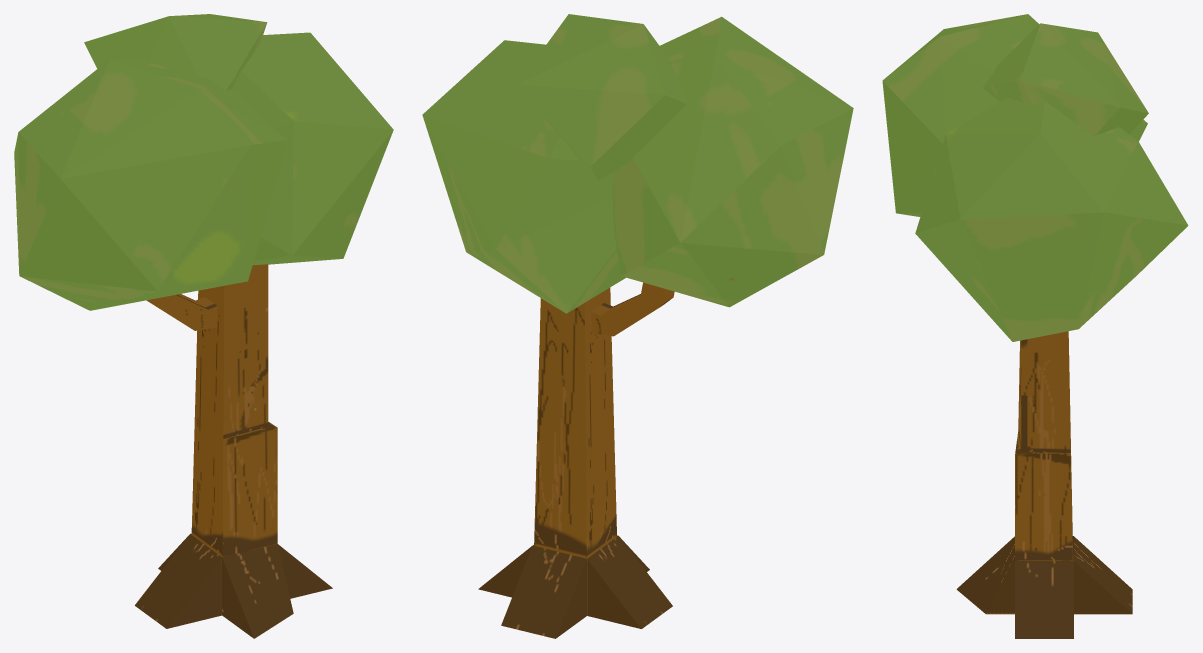
Rendered from tree_chesburg_3.glb.
3 views of the same model, side by side, from view 1: azimuth 30°, elevation 25°; view 2: azimuth 150°, elevation 25°; view 3: azimuth 270°, elevation 25° (orthographic). The views are drawn at different scales.
Visible parts, largest first — view 1: leaves.002; view 2: leaves.002; view 3: leaves.002.
Part boxes in pixels (x1,y1,x2,y2): leaves.002: (14, 14, 393, 638); leaves.002: (422, 14, 853, 638); leaves.002: (882, 14, 1188, 638).
Size of the model in its own units: 6.43 by 10.3 by 5.21.
